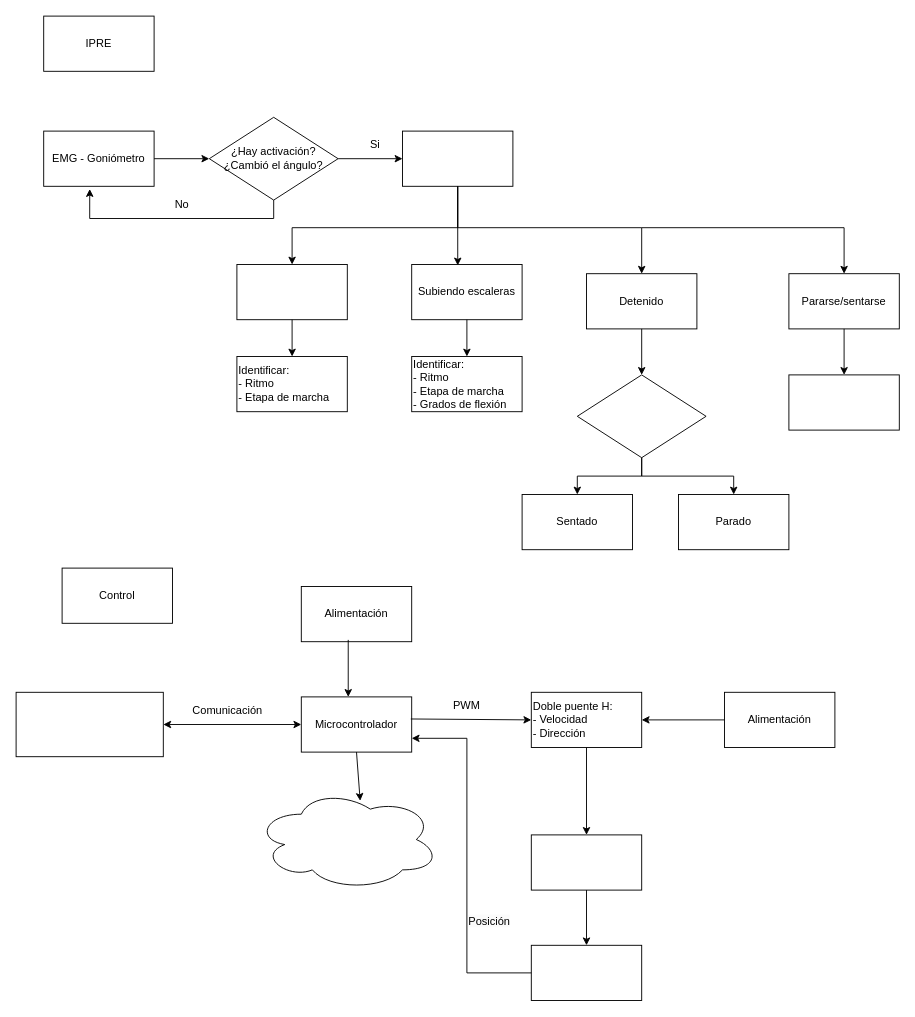
Image size: 915x1017. Some labels were removed from this diagram. The shapes that lost their labels are listed below. From the top down, each one's centre as x and y in pixels, then its label:
At point 457,158: "Identificar etapa".
At point 291,292: "Caminando".
At point 641,416: "¿Grados de flexión?".
At point 843,402: "Identificar: - Cambio de ángulo y pendiente".
At point 89,724: "ETAPA ÁNGULO VELOCIDAD ANGULAR".
At point 346,839: "Máquina de estados".
At point 586,862: "Motor - actuador lineal".
At point 586,972: "Encoder".
